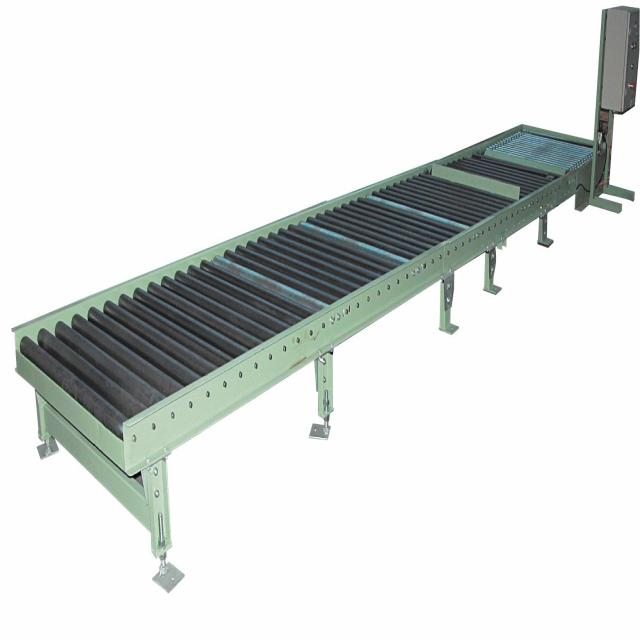Convoyeur: (9, 123, 619, 486)
